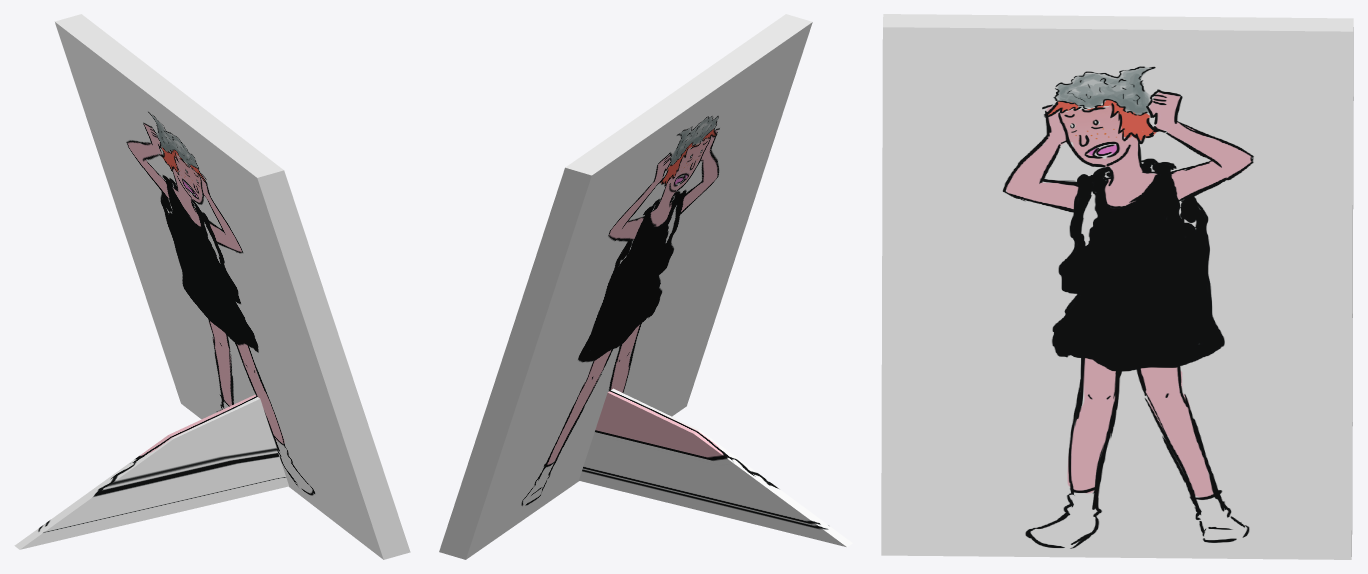
File: light.fbx
The picture shows the model from 3 angles, left to right: view 1: azimuth 30°, elevation 25°; view 2: azimuth 150°, elevation 25°; view 3: azimuth 270°, elevation 25°; orthographic projection. The views are drawn at different scales.
Visible parts, largest first — view 1: Cube; view 2: Cube; view 3: Cube.
Part boxes in pixels (x1,y1,x2,y2): Cube: (14,14,410,559); Cube: (439,14,852,559); Cube: (881,14,1353,559).
Size of the model in its own units: 1.16 by 1.53 by 1.42.
